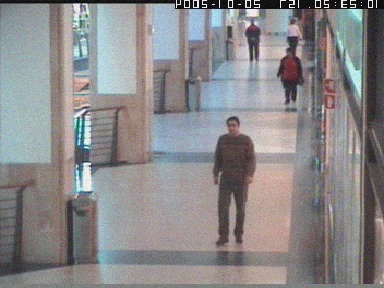person: (213, 116, 255, 246), (278, 45, 305, 103), (285, 16, 303, 57), (244, 20, 260, 62), (224, 9, 234, 39)
